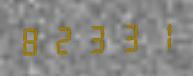eight: (18, 22, 48, 57)
one: (142, 18, 172, 53)
three: (80, 20, 110, 55), (111, 19, 141, 54)
two: (49, 21, 79, 56)
